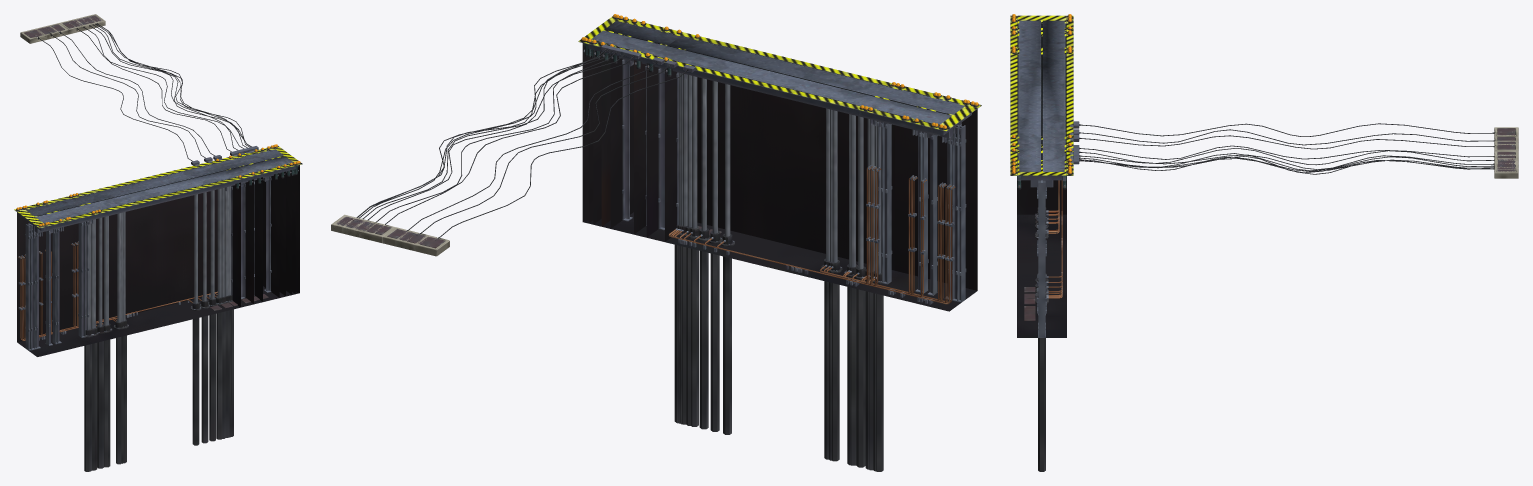
The model's file is props_fosos.glb.
The picture shows the model from 3 angles, left to right: view 1: azimuth 30°, elevation 25°; view 2: azimuth 150°, elevation 25°; view 3: azimuth 270°, elevation 25°; orthographic projection. The views are drawn at different scales.
Visible parts, largest first — view 1: Prop_FosoPortal_section1_en, Prop_FosoPortal_section2_es, Prop_FosoPortal_section1_es, Prop_FosoPortal_section4_en, Prop_FosoPortal_section2_en, Prop_FosoPortal_section3_en, Prop_FosoPortal_section5_es, Prop_FosoPortal_section3_es, Prop_FosoPortal_section5_en, Prop_FosoPortal_section4_es, Prop_FosoPortal_section2_en_PuertaB, Prop_FosoPortal_section2_en_PuertaA (+11 smaller); view 2: Prop_FosoPortal_section1_es, Prop_FosoPortal_section1_en, Prop_FosoPortal_section2_en, Prop_FosoPortal_section2_es, Prop_FosoPortal_section5_es, Prop_FosoPortal_section4_en, Prop_FosoPortal_section3_en, Prop_FosoPortal_section4_es, Prop_FosoPortal_section5_en, Prop_FosoPortal_section3_es, Prop_FosoPortal_section2_en_PuertaA, Prop_FosoPortal_section2_en_PuertaB (+11 smaller); view 3: Prop_FosoPortal_section4_es, Prop_FosoPortal_section4_en, Prop_FosoPortal_section1_es, Prop_FosoPortal_section3_es, Prop_FosoPortal_section1_en, Prop_FosoPortal_section2_en_PuertaA, Prop_FosoPortal_section2_en_PuertaB, Prop_FosoPortal_section3_en, Prop_FosoPortal_section2_en, Prop_FosoPortal_section2_es, Prop_FosoPortal_section5_es, Prop_FosoPortal_section5_en (+2 smaller).
Boxes of the visible parts, x1,y1,x2,y2 form: Prop_FosoPortal_section1_en: (20, 28, 242, 463); Prop_FosoPortal_section2_es: (42, 16, 294, 467); Prop_FosoPortal_section1_es: (46, 19, 281, 467); Prop_FosoPortal_section4_en: (36, 18, 287, 468); Prop_FosoPortal_section2_en: (34, 25, 255, 464); Prop_FosoPortal_section3_en: (44, 23, 264, 463); Prop_FosoPortal_section5_es: (14, 15, 298, 471); Prop_FosoPortal_section3_es: (25, 14, 302, 470); Prop_FosoPortal_section5_en: (19, 15, 296, 471); Prop_FosoPortal_section4_es: (22, 14, 302, 470); Prop_FosoPortal_section2_en_PuertaB: (76, 160, 237, 203); Prop_FosoPortal_section2_en_PuertaA: (86, 167, 247, 210); Prop_FosoPortal_section1_es: (359, 23, 936, 465); Prop_FosoPortal_section1_en: (413, 36, 895, 460); Prop_FosoPortal_section2_en: (395, 31, 905, 461); Prop_FosoPortal_section2_es: (342, 18, 941, 465); Prop_FosoPortal_section5_es: (334, 17, 981, 471); Prop_FosoPortal_section4_en: (351, 20, 952, 467); Prop_FosoPortal_section3_en: (382, 28, 900, 459); Prop_FosoPortal_section4_es: (331, 16, 970, 470); Prop_FosoPortal_section5_en: (338, 17, 974, 471); Prop_FosoPortal_section3_es: (331, 17, 966, 469); Prop_FosoPortal_section2_en_PuertaA: (669, 36, 894, 97); Prop_FosoPortal_section2_en_PuertaB: (655, 46, 881, 107); Prop_FosoPortal_section4_es: (1010, 19, 1518, 337); Prop_FosoPortal_section4_en: (1010, 28, 1518, 329); Prop_FosoPortal_section1_es: (1010, 33, 1518, 325); Prop_FosoPortal_section3_es: (1010, 20, 1518, 471); Prop_FosoPortal_section1_en: (1011, 51, 1518, 292); Prop_FosoPortal_section2_en_PuertaA: (1019, 51, 1040, 143); Prop_FosoPortal_section2_en_PuertaB: (1043, 51, 1064, 143); Prop_FosoPortal_section3_en: (1010, 50, 1518, 315); Prop_FosoPortal_section2_en: (1010, 47, 1518, 298); Prop_FosoPortal_section2_es: (1010, 32, 1518, 331); Prop_FosoPortal_section5_es: (1010, 15, 1518, 336); Prop_FosoPortal_section5_en: (1010, 17, 1516, 334).
Bounding box in the file's own units: 4.68 × 4.57 × 6.29.
Materials: 1 (1 with a texture image).
